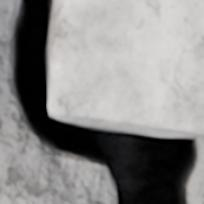brick: (49, 0, 203, 133)
crack: (2, 0, 203, 203)
